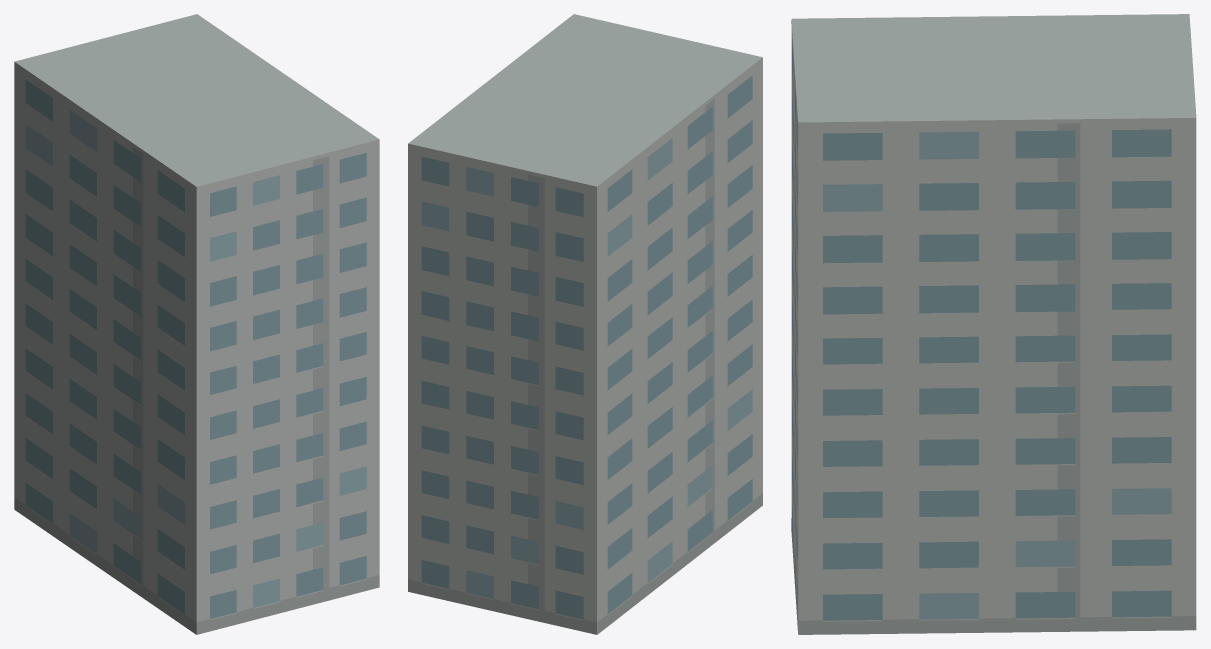
Rendered from residential-c6b83c7f-405a-4ac1-a9b4-aa7a2804ab9b.glb.
The picture shows the model from 3 angles, left to right: view 1: azimuth 30°, elevation 25°; view 2: azimuth 150°, elevation 25°; view 3: azimuth 270°, elevation 25°; orthographic projection. The views are drawn at different scales.
Visible parts, largest first — view 1: residential-c6b83c7f-405a-4ac1-a9b4-aa7a2804ab9b.tmp; view 2: residential-c6b83c7f-405a-4ac1-a9b4-aa7a2804ab9b.tmp; view 3: residential-c6b83c7f-405a-4ac1-a9b4-aa7a2804ab9b.tmp.
Boxes of the visible parts, left/top/right/bottom form: residential-c6b83c7f-405a-4ac1-a9b4-aa7a2804ab9b.tmp: left=14, top=14, right=379, bottom=634; residential-c6b83c7f-405a-4ac1-a9b4-aa7a2804ab9b.tmp: left=408, top=14, right=762, bottom=634; residential-c6b83c7f-405a-4ac1-a9b4-aa7a2804ab9b.tmp: left=791, top=14, right=1196, bottom=634.
Bounding box in the file's own units: 13.63 × 30 × 21.5.
